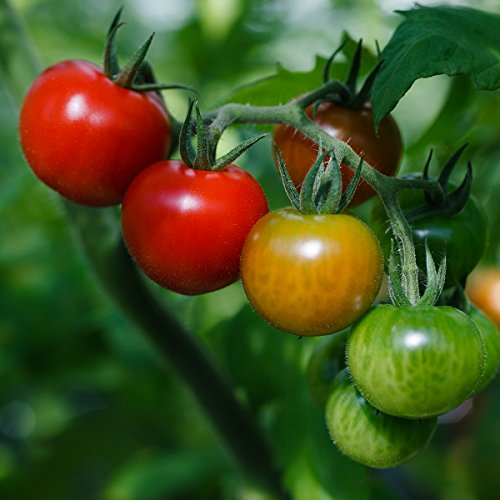tomato: (18, 58, 171, 209), (120, 159, 269, 295), (240, 204, 384, 337), (344, 301, 487, 419), (272, 88, 404, 212), (369, 170, 488, 295), (325, 365, 439, 470), (446, 298, 500, 409), (304, 322, 348, 408)
